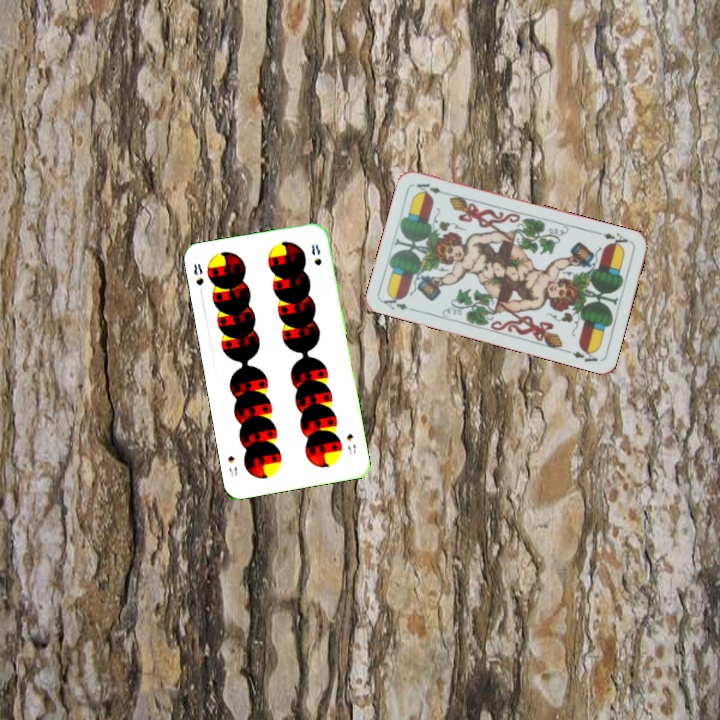EA: (593, 227, 633, 251), (380, 291, 419, 314)
S8: (190, 259, 206, 298), (343, 429, 359, 457)
